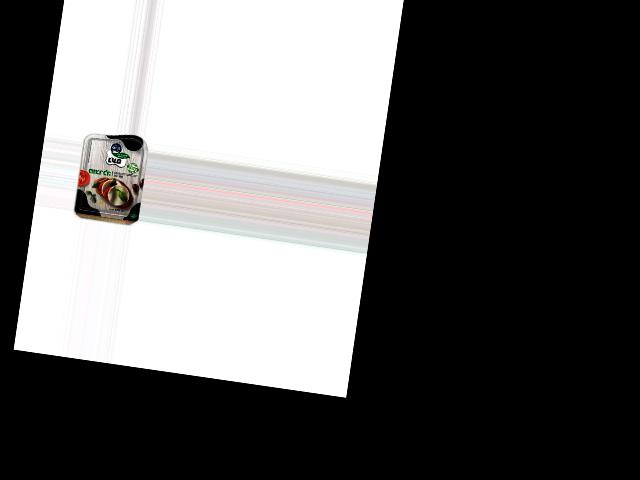cheese: (72, 129, 149, 222)
